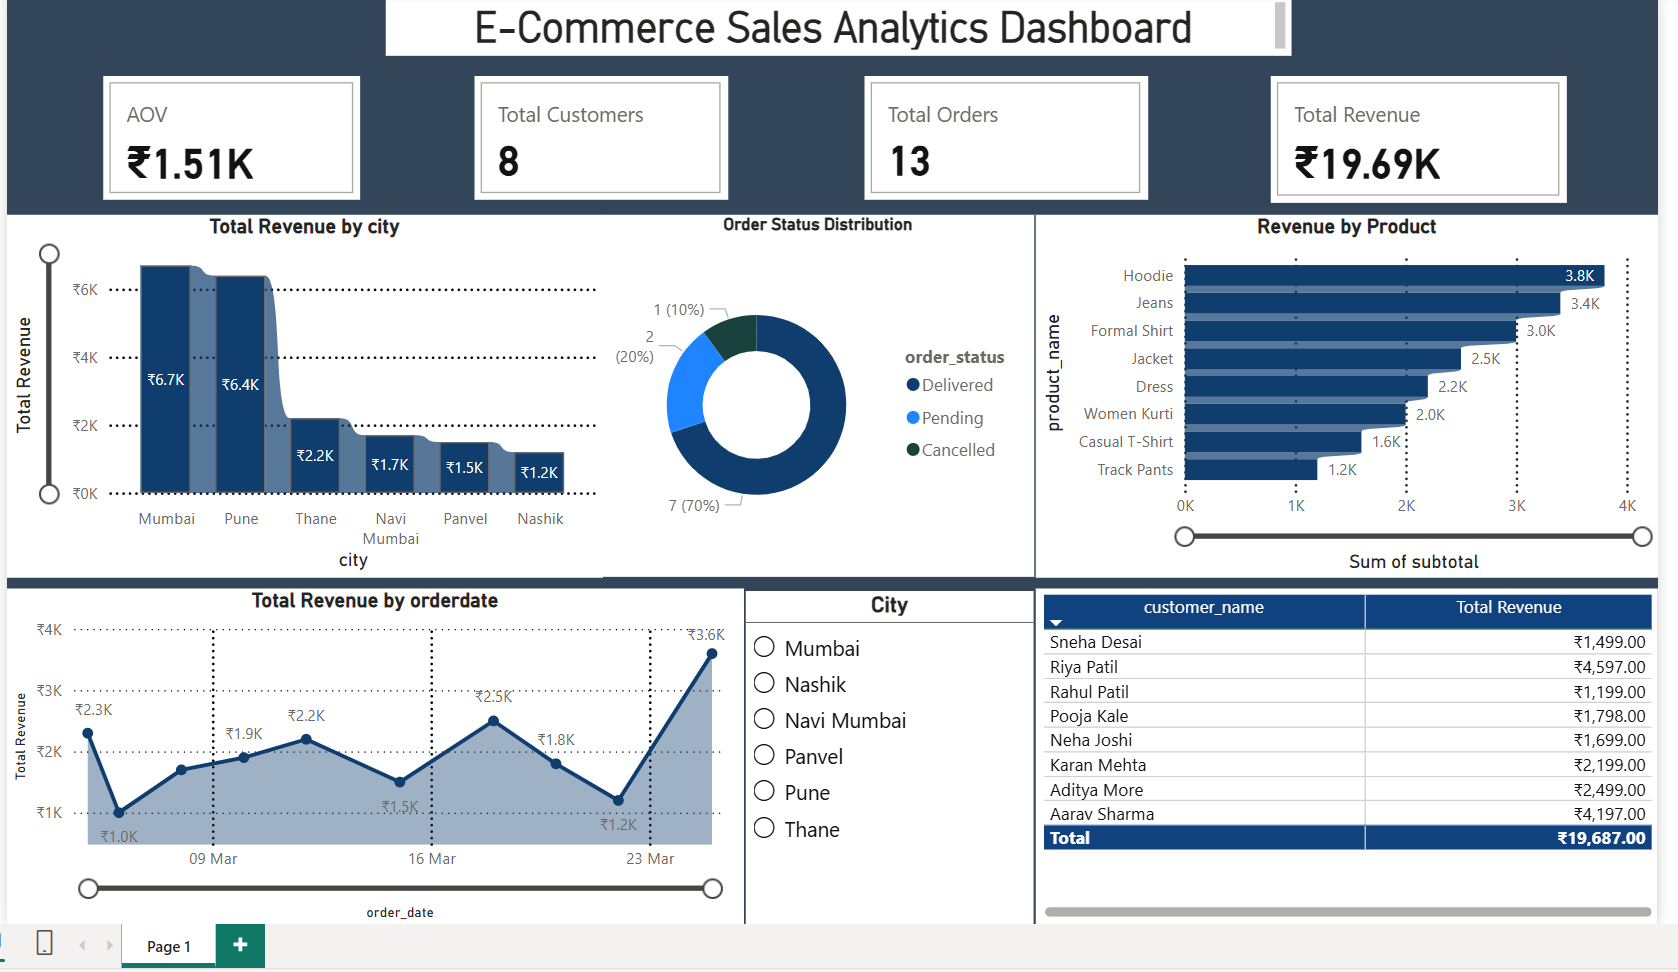

What the dashboard file says about the page in this screenshot:
{"tool":"powerbi","page":{"name":"Page 1","canvas":[1280,720],"ordinal":0},"visuals":[{"type":"tableEx","fields":{"Values":["bi_db customers.customer_name","bi_db customers.Total_Revenue"]},"box":[797.3,459.9,482.7,260.6],"z":0},{"type":"cardVisual","fields":{"Data":["bi_db customers.Total Revenue"]},"box":[979.8,62.4,229.3,98.5],"z":1000},{"type":"cardVisual","fields":{"Data":["bi_db customers.Total Orders"]},"box":[665.2,62.4,219.7,96.1],"z":2000},{"type":"cardVisual","fields":{"Data":["bi_db customers.Total Customers"]},"box":[362.6,62.4,196.9,96.1],"z":3000},{"type":"ribbonChart","fields":{"Category":["bi_db customers.city"],"Y":["bi_db customers.Total Revenue"]},"box":[0,169.3,461.6,280.7],"z":4000},{"type":"lineChart","title":"Total Revenue by orderdate","fields":{"Y":["bi_db customers.Total_Revenue"],"Category":["bi_db orders.order_date"]},"box":[0,459.5,570.9,260.7],"z":5000},{"type":"donutChart","title":"Order Status Distribution","fields":{"Category":["bi_db orders.order_status"],"Y":["CountNonNull(bi_db orders.order_id)"]},"box":[461.1,169.3,335,281],"z":6000},{"type":"barChart","title":"Revenue by Product","fields":{"Category":["bi_db products.product_name"],"Y":["Sum(bi_db order_items.subtotal)"]},"box":[797.3,169.3,482.7,281],"z":7000},{"type":"textbox","box":[294.1,0,702.5,46.8],"z":7001},{"type":"cardVisual","fields":{"Data":["bi_db customers.AOV"]},"box":[74.4,62.4,199.3,96.1],"z":7002},{"type":"listSlicer","title":"City","fields":{"Values":["bi_db customers.city"]},"box":[572.8,461.1,223.3,259.4],"z":7003}]}

Visuals, with their boxes in screenshot pixels (x1, y1, x2, y2):
tableEx - bi_db customers.customer_name x bi_db customers.Total_Revenue: pyautogui.locateOnScreen(1031, 586, 1655, 923)
cardVisual - bi_db customers.Total Revenue: pyautogui.locateOnScreen(1267, 72, 1563, 199)
cardVisual - bi_db customers.Total Orders: pyautogui.locateOnScreen(860, 72, 1144, 196)
cardVisual - bi_db customers.Total Customers: pyautogui.locateOnScreen(469, 72, 723, 196)
ribbonChart - bi_db customers.city x bi_db customers.Total Revenue: pyautogui.locateOnScreen(0, 210, 597, 573)
"Total Revenue by orderdate" lineChart: pyautogui.locateOnScreen(0, 585, 738, 922)
"Order Status Distribution" donutChart: pyautogui.locateOnScreen(596, 210, 1029, 573)
"Revenue by Product" barChart: pyautogui.locateOnScreen(1031, 210, 1655, 573)
textbox: pyautogui.locateOnScreen(380, 0, 1288, 52)
cardVisual - bi_db customers.AOV: pyautogui.locateOnScreen(96, 72, 354, 196)
"City" listSlicer: pyautogui.locateOnScreen(741, 587, 1029, 923)
